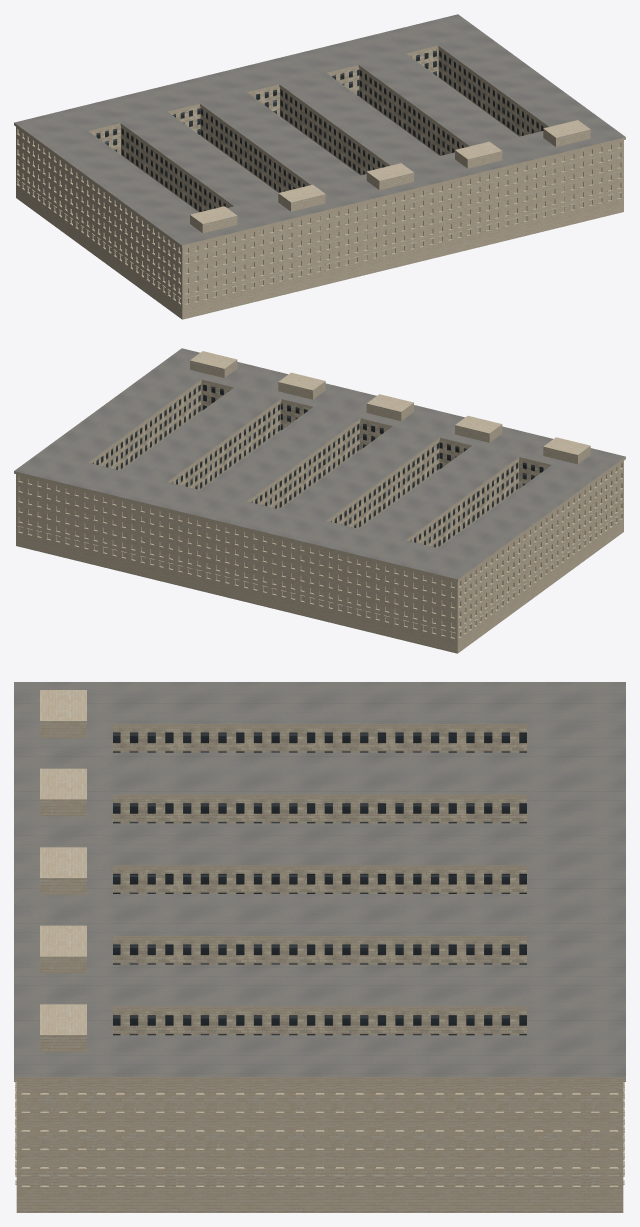
Rendered from interior_main.glb.
3 views of the same model, one above another, from view 1: azimuth 30°, elevation 25°; view 2: azimuth 150°, elevation 25°; view 3: azimuth 270°, elevation 25° (orthographic). The views are drawn at different scales.
Parts seen in each view (by area): view 1: interior_main; view 2: interior_main; view 3: interior_main.
Boxes of the visible parts, left/top/right/bottom form: interior_main: left=14, top=14, right=625, bottom=319; interior_main: left=14, top=348, right=625, bottom=653; interior_main: left=14, top=682, right=625, bottom=1212.
Size of the model in its own units: 180 by 32.61 by 118.
Materials: 4 (4 with a texture image).
